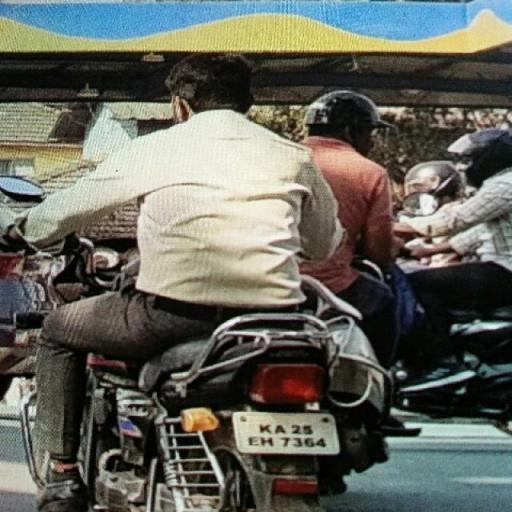bike: (10, 43, 400, 512)
numberplate: (234, 408, 340, 458)
withouthelmet: (173, 52, 253, 113)
